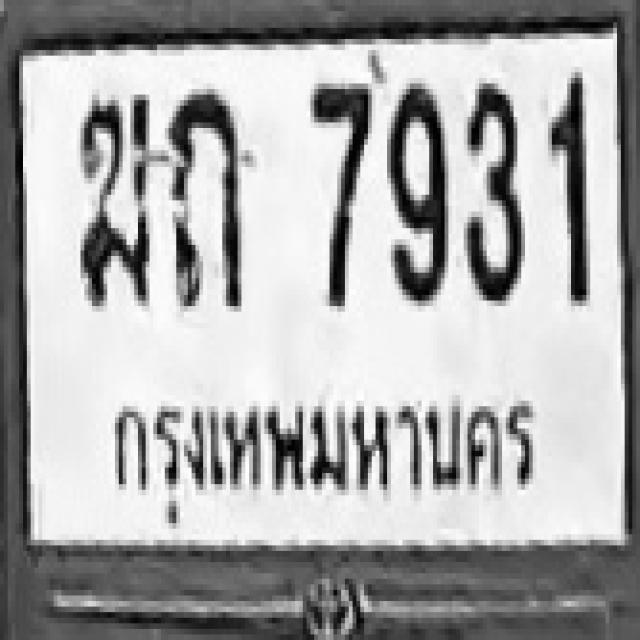1: (542, 67, 584, 300)
15KhorRaKhang: (77, 89, 153, 306)
3: (460, 78, 521, 300)
31ThorThung: (167, 84, 247, 306)
7: (306, 75, 368, 303)
9: (387, 78, 445, 300)
Bangkok: (104, 379, 544, 535)
